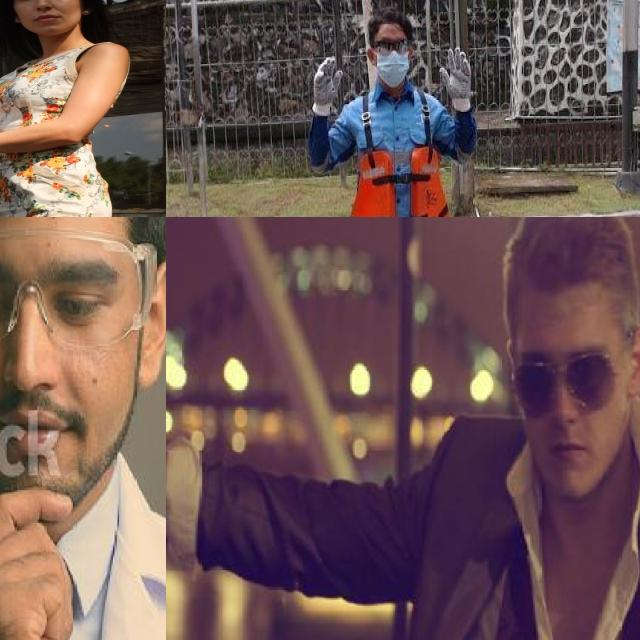No_Ear-Protection: (622, 320, 640, 399)
face_nomask: (0, 261, 127, 472), (520, 341, 619, 468)
glasses: (0, 223, 155, 359), (512, 322, 640, 408)
hand_noglove: (0, 484, 109, 640)
head_nohelmet: (502, 217, 640, 319)
person: (396, 219, 640, 640), (0, 217, 166, 640), (285, 0, 513, 217)
vest: (346, 151, 451, 217)
